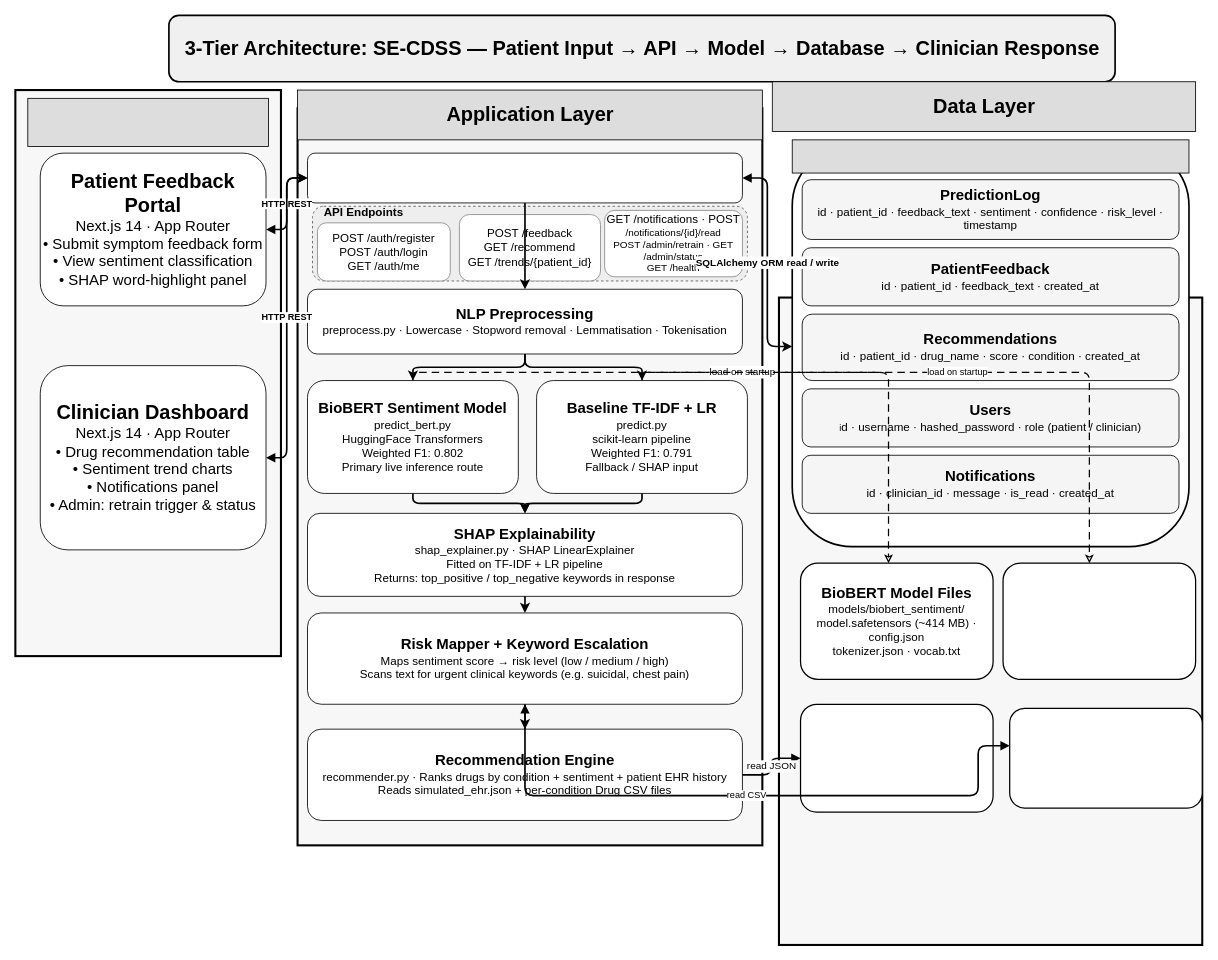
This 1218x960 diagram has some shape labels left out. Here are the shapes that lost their labels. From the top down, the centre of each, then its label:
At [148,122]: "Presentation Layer".
At [990,156]: "Postgres Database (se_cdss.db)".
At [524,177]: "FastAPI Router api/main.py · Python 3.11 · Uvicorn · SQLAlchemy · Pydantic v2".
At [1099,621]: "Baseline Model Files models/baseline/ tfidf_vectorizer.pkl lr_classifier.pkl".
At [896,757]: "EHR Records data/simulated_ehr.json 50 simulated patient record s".
At [1106,757]: "Drug Catalogue CSV data/drugs/ (per-condition) WebMD-sourced drug stats".
